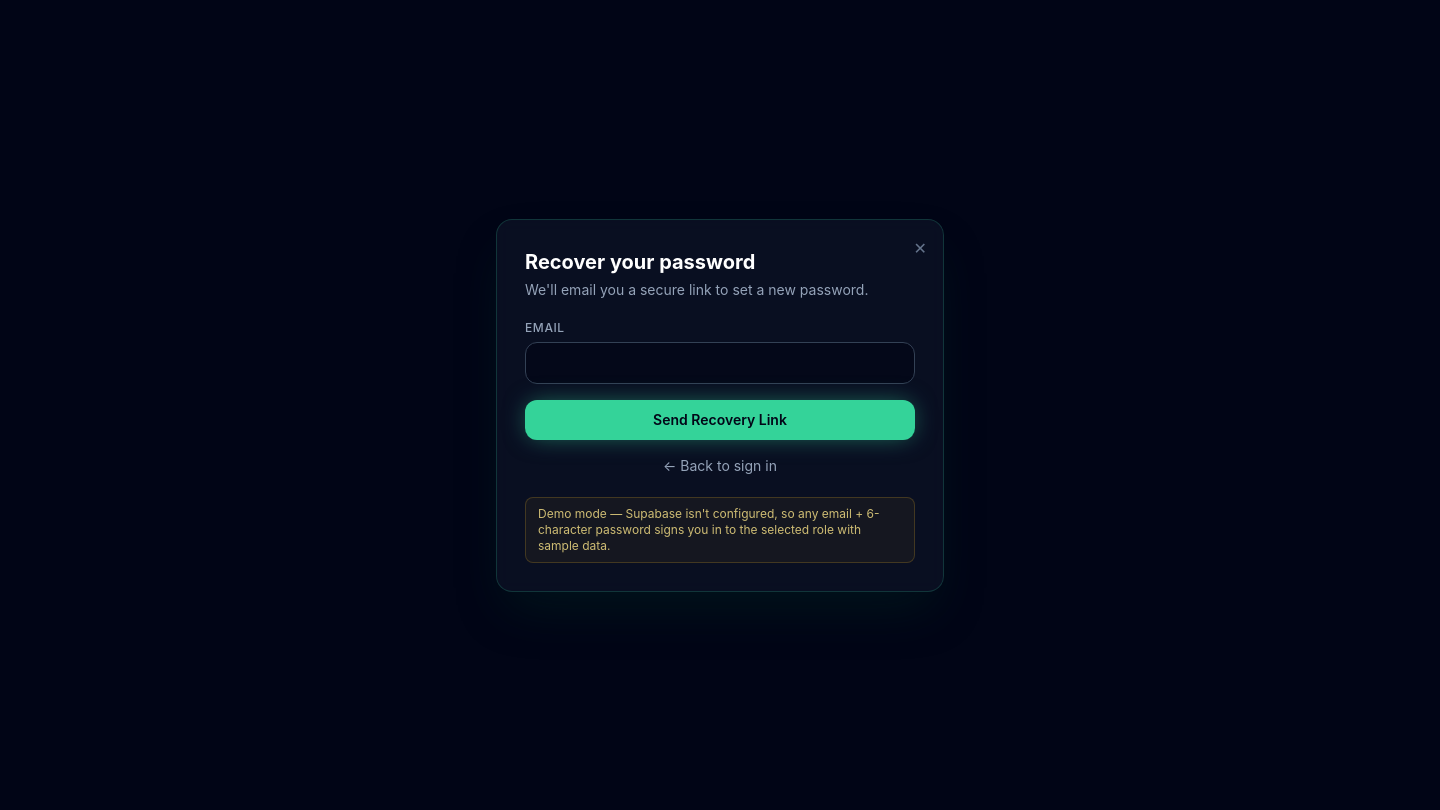
AuthModal › sends a recovery link without needing a role
Step 1. Type "lost@example.com" into the field labelled "Email" → x=720, y=362, box [525,342,915,384]
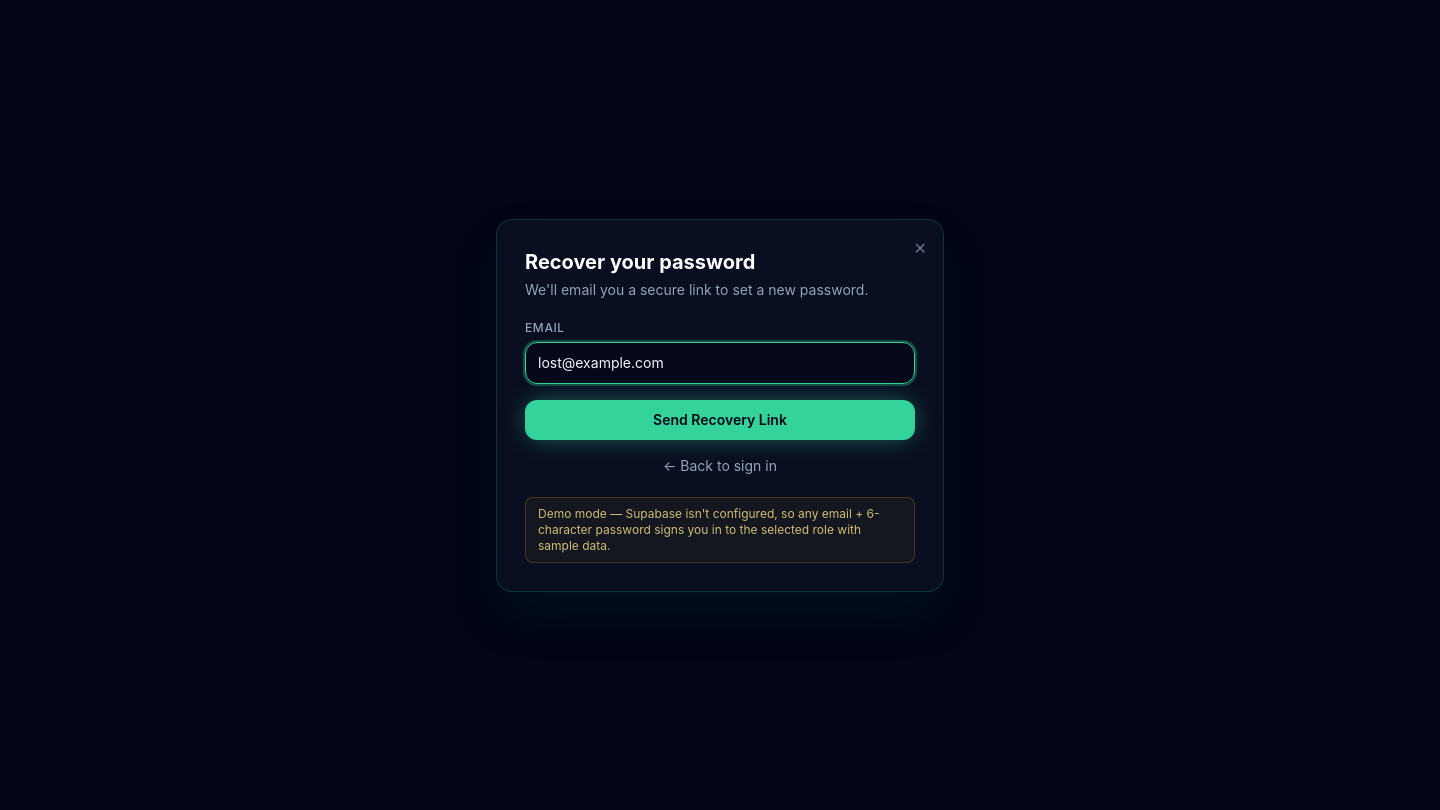
Step 2. Click the submit button → x=720, y=420, box [525,400,915,440]
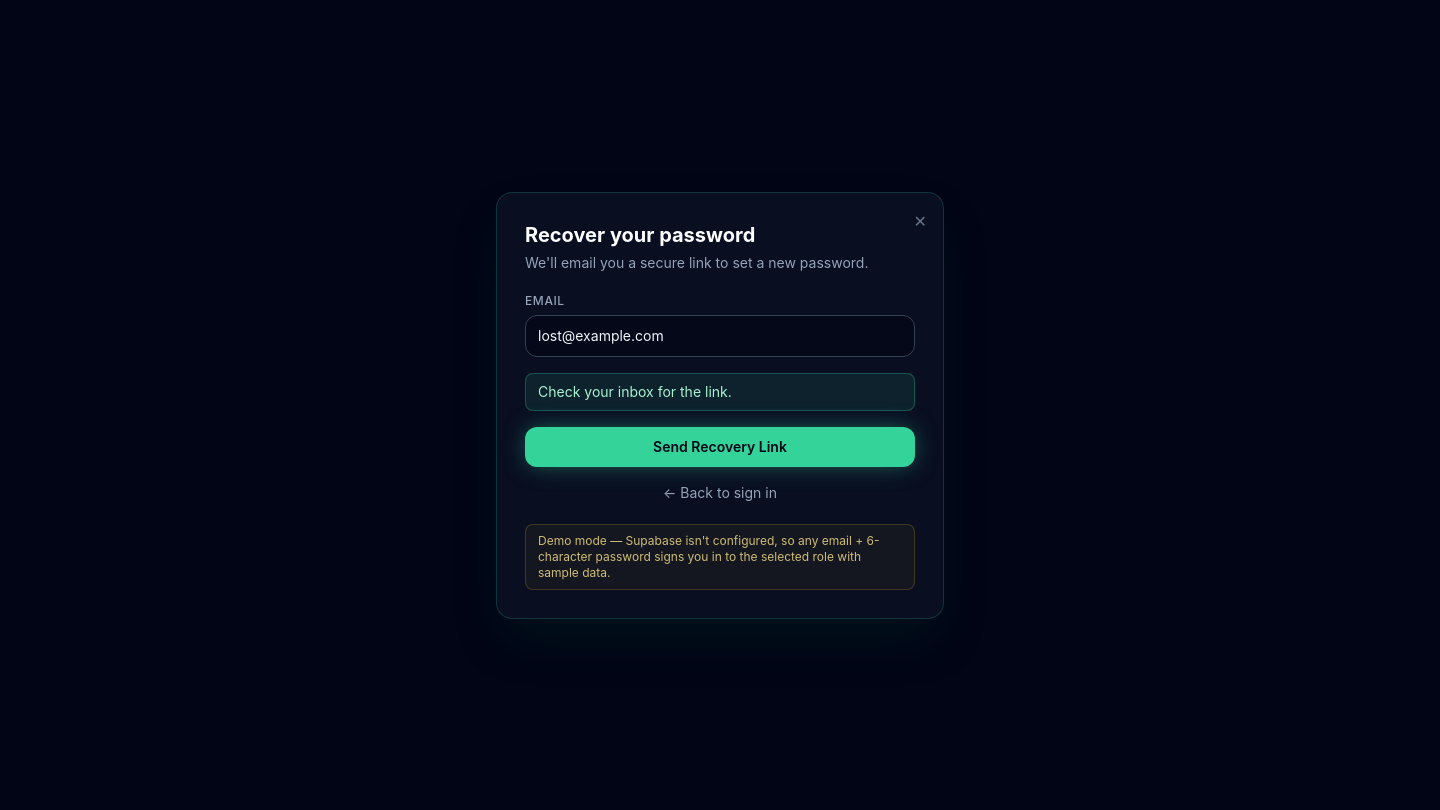
Expected: the message reads "Check your inbox for the link.", [538,382,732,400]
